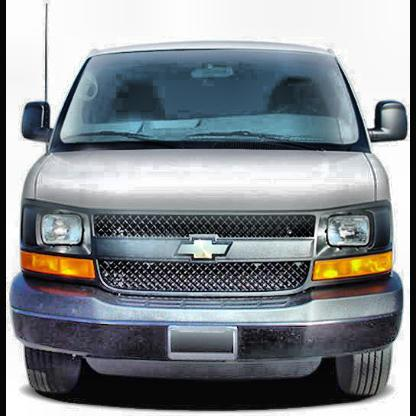Chevrolet Express Cargo Van 2007: (6, 2, 408, 407)
